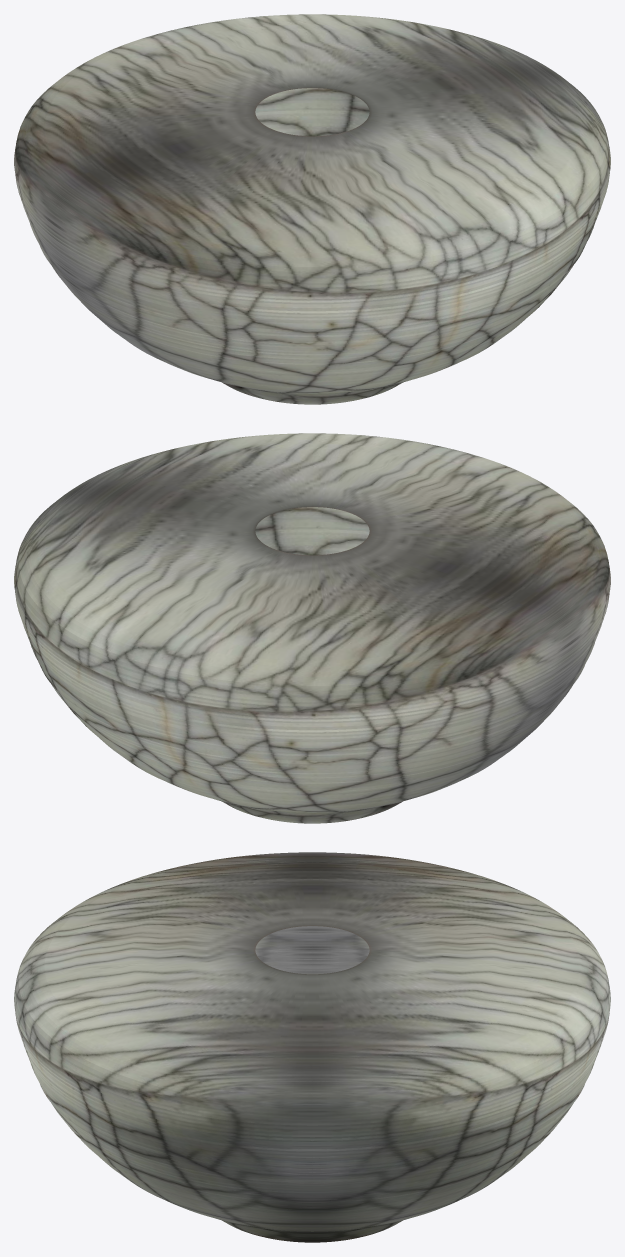
Rendered from cma-135021.glb.
3 renders of one model, top to bottom at view 1: azimuth 30°, elevation 25°; view 2: azimuth 150°, elevation 25°; view 3: azimuth 270°, elevation 25°, orthographic.
Visible parts, largest first — view 1: geometry_0; view 2: geometry_0; view 3: geometry_0.
Part boxes in pixels (x1,y1,x2,y2): geometry_0: (14,14,610,404); geometry_0: (14,433,610,823); geometry_0: (14,852,610,1242).
Size of the model in its own units: 62.32 by 30 by 62.32.
Materials: 1 (1 with a texture image).
